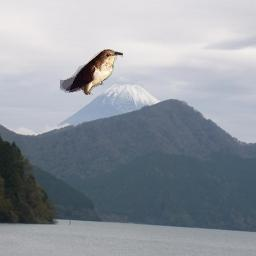Cuckoo: (60, 49, 123, 95)
